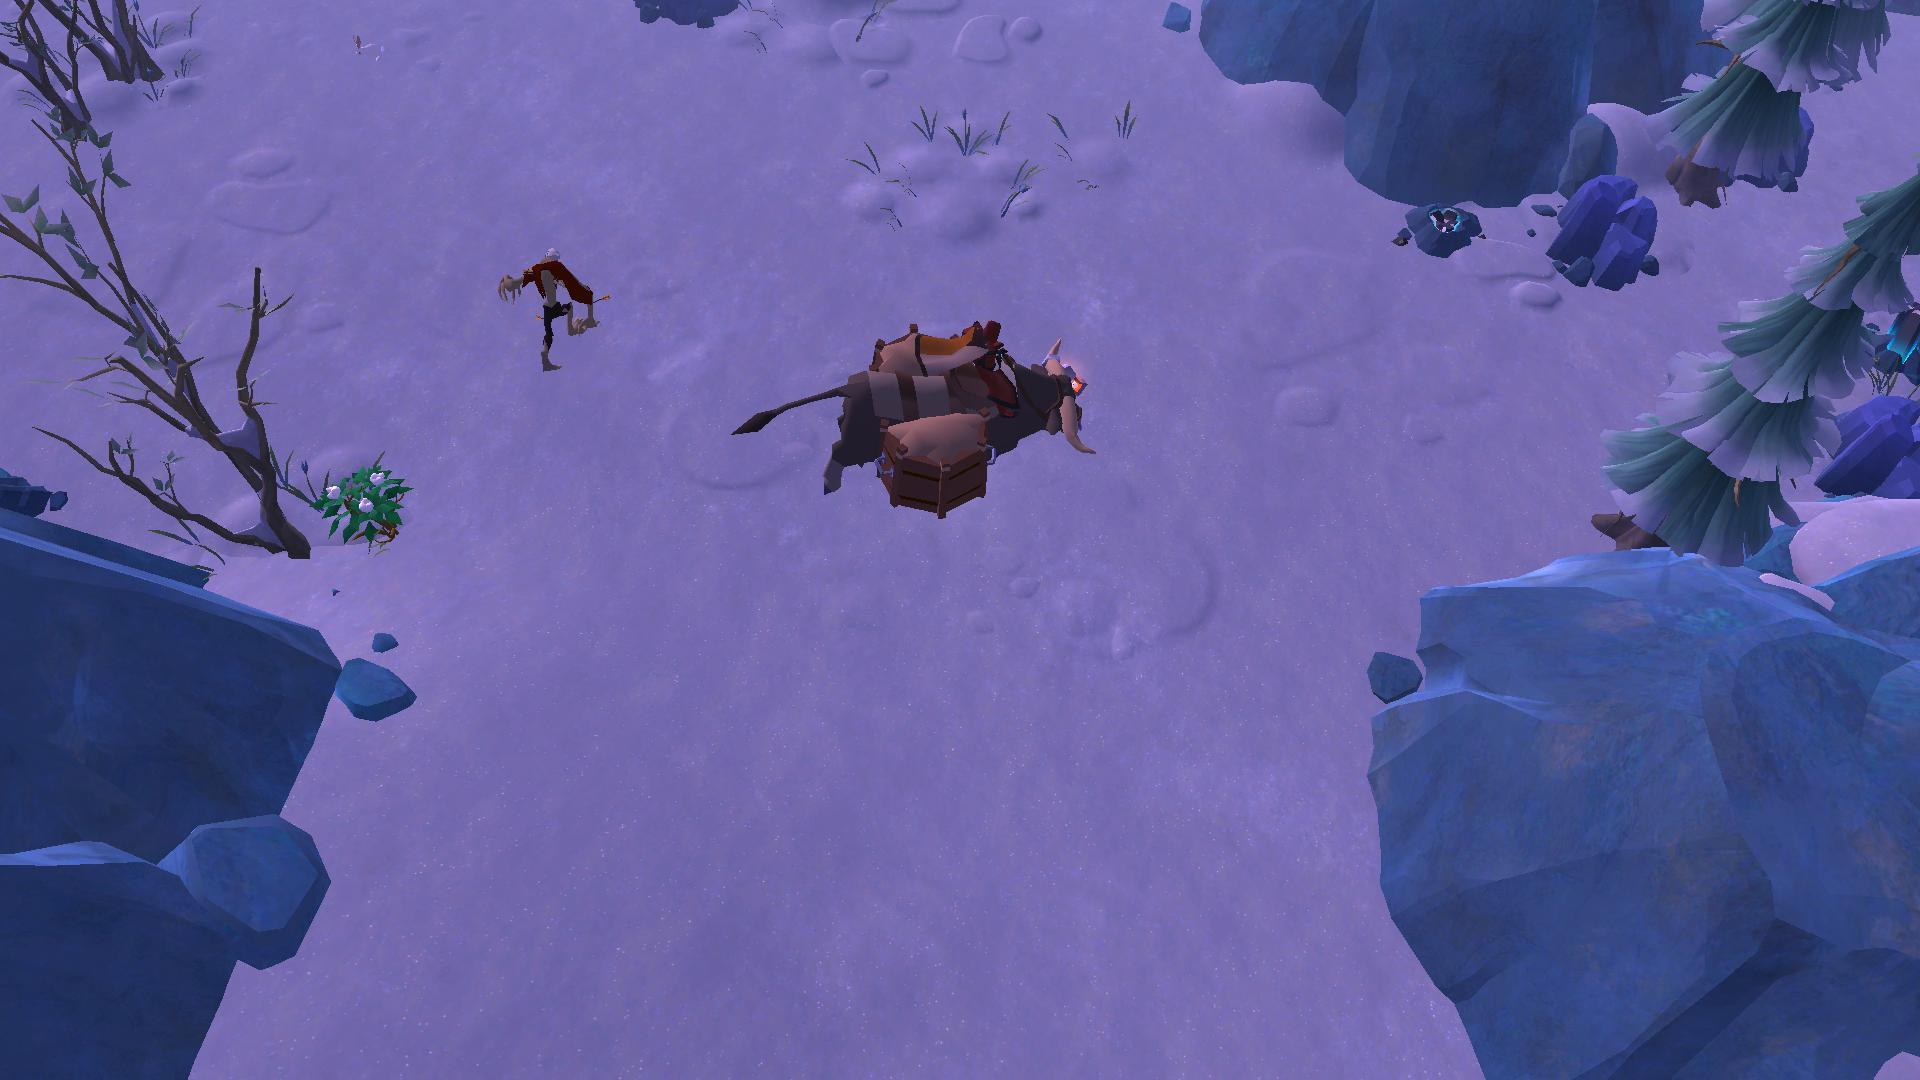enemy_factionUndead: (504, 251, 604, 365)
fiber_t3: (319, 456, 411, 550)
rock_t4: (1813, 385, 1920, 498), (1548, 174, 1651, 285)
